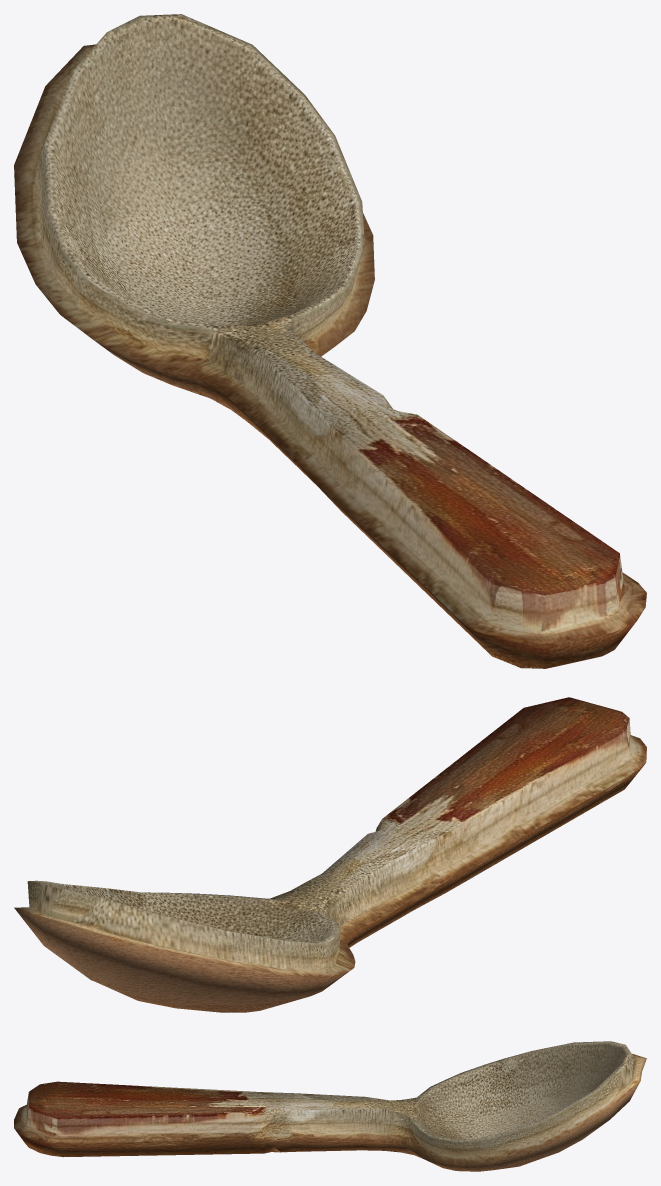
3 renders of one model, top to bottom at view 1: azimuth 30°, elevation 25°; view 2: azimuth 150°, elevation 25°; view 3: azimuth 270°, elevation 25°, orthographic. The views are drawn at different scales.
Visible parts, largest first — view 1: tripo_node_1b36a9df-a456-4985-a249-9fb2cbda51e4; view 2: tripo_node_1b36a9df-a456-4985-a249-9fb2cbda51e4; view 3: tripo_node_1b36a9df-a456-4985-a249-9fb2cbda51e4.
Part boxes in pixels (left/top/right/bottom): tripo_node_1b36a9df-a456-4985-a249-9fb2cbda51e4: left=14, top=14, right=646, bottom=668; tripo_node_1b36a9df-a456-4985-a249-9fb2cbda51e4: left=14, top=697, right=646, bottom=1012; tripo_node_1b36a9df-a456-4985-a249-9fb2cbda51e4: left=14, top=1041, right=646, bottom=1171.
Size of the model in its own units: 0.3301 by 0.2129 by 0.998.
Materials: 1 (1 with a texture image).
